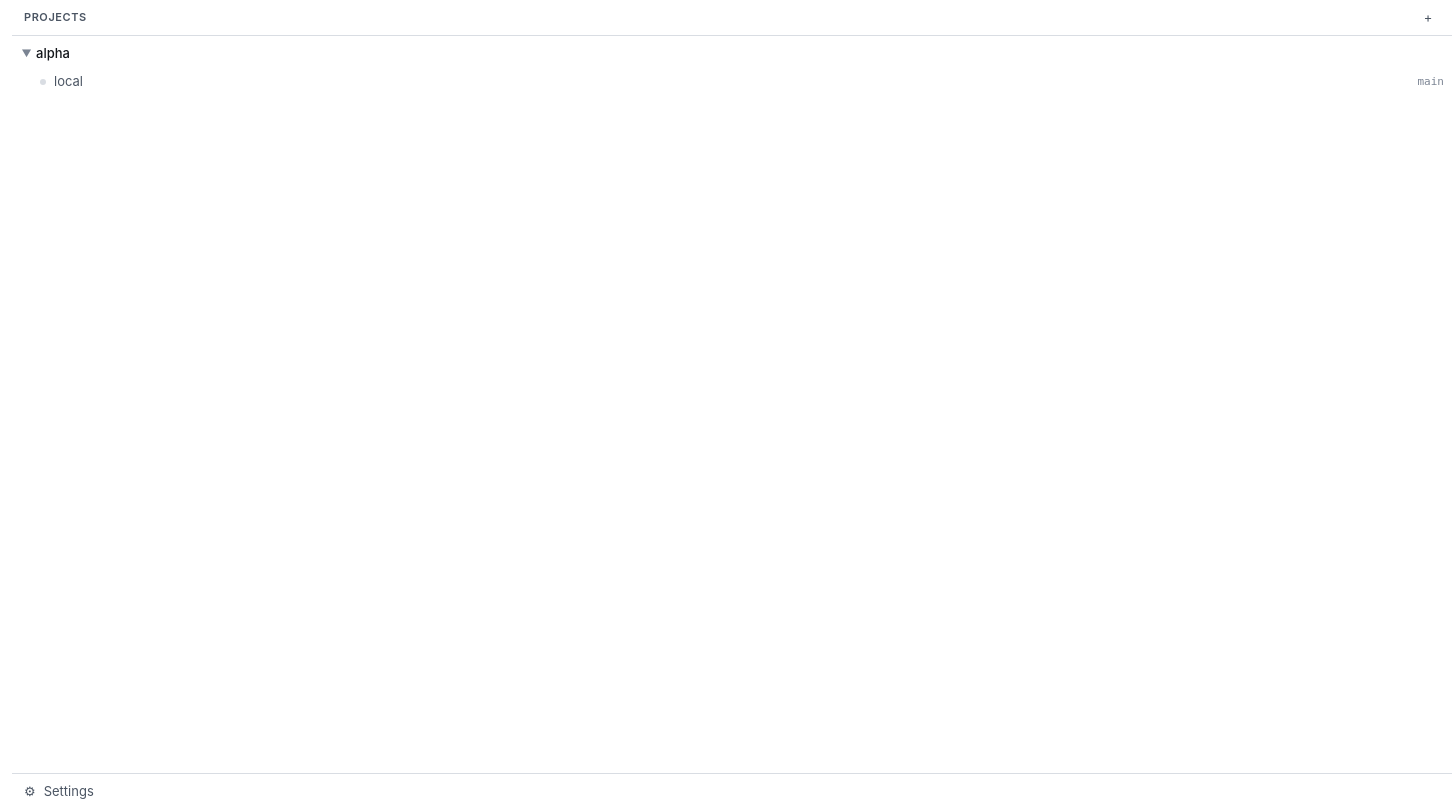
Scenario: Sidebar › collapses and expands a project
This screenshot has width=1452, height=810.
Expected: the list item "alpha" is shown, [12,40,1451,96]
Click the button "▶ alpha".
click(53, 53)  # box [12,40,1400,68]
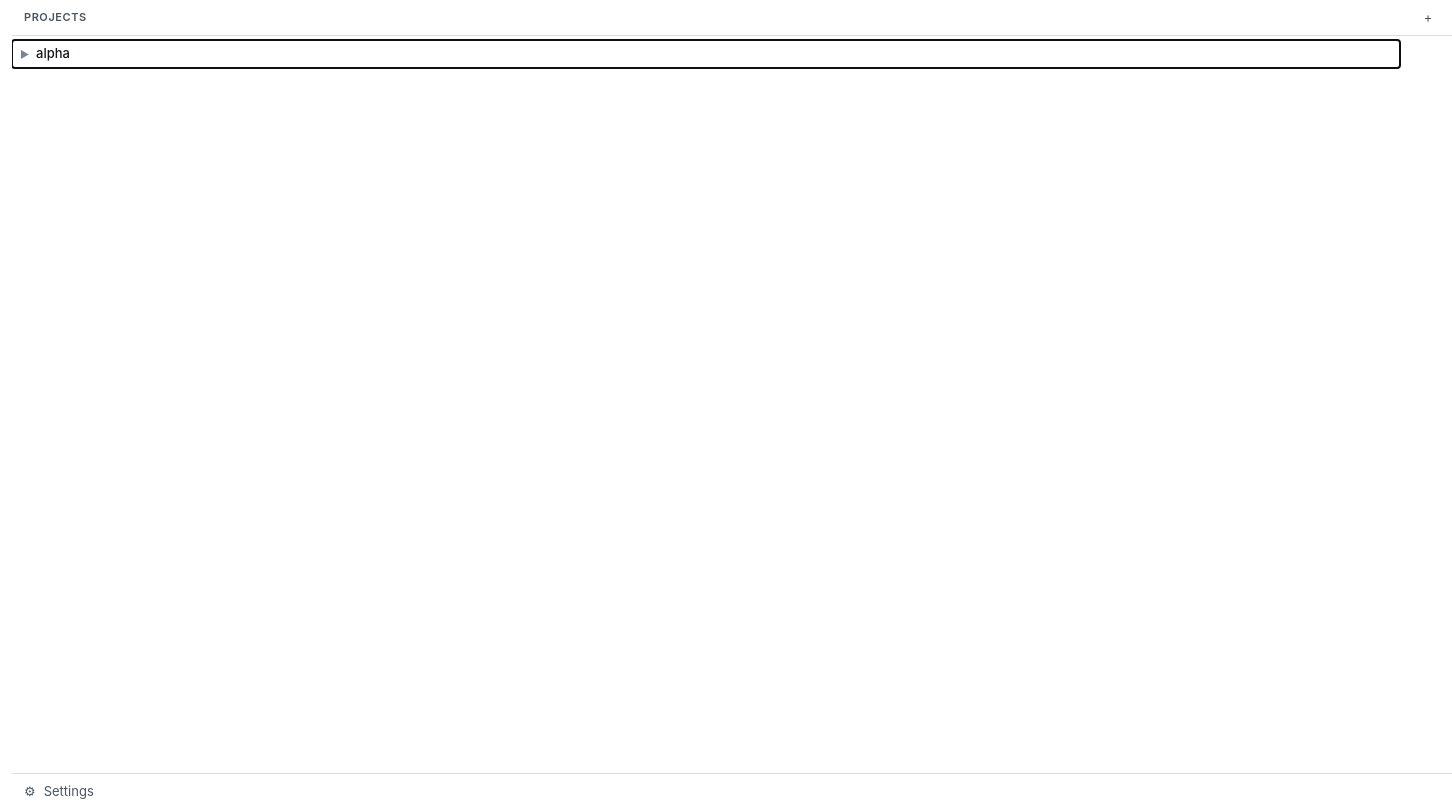
Expected: the button "local" is gone
Expected: the list item "alpha" is collapsed, [12,40,1451,68]
